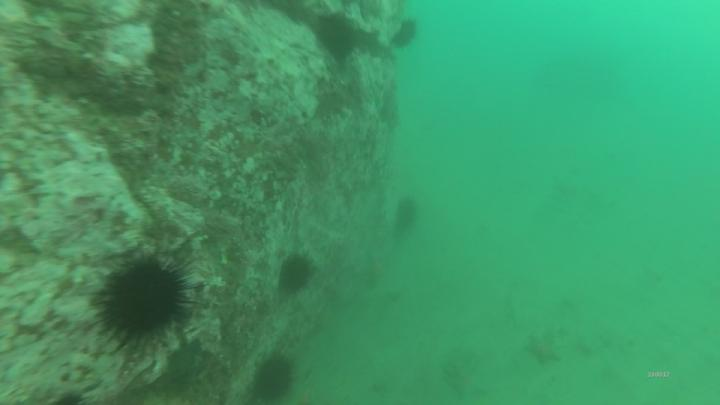echinus: (104, 265, 188, 339), (254, 357, 293, 399), (320, 16, 353, 59), (282, 252, 311, 290), (396, 20, 416, 50)
